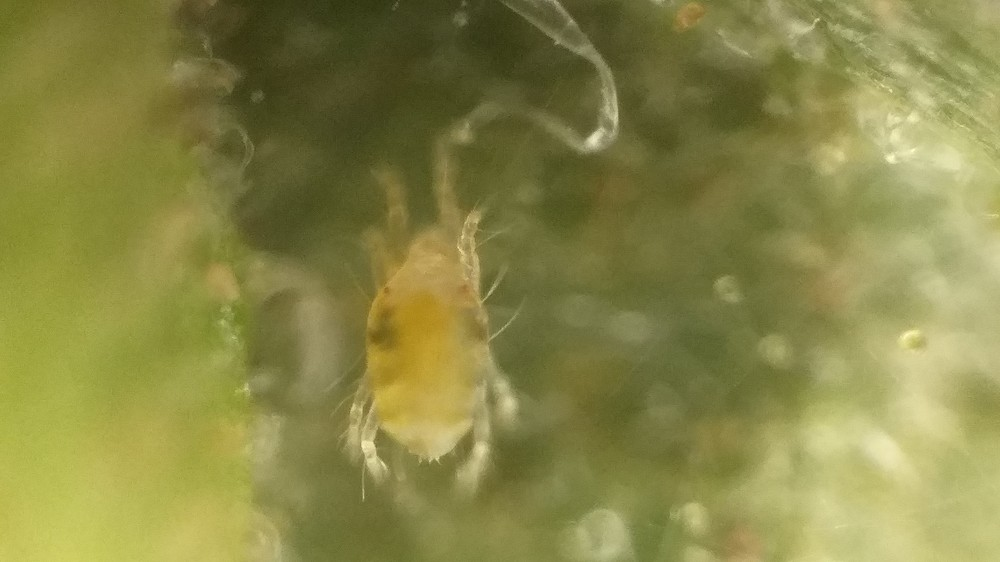Aracnido Rojo: (314, 139, 550, 497)
